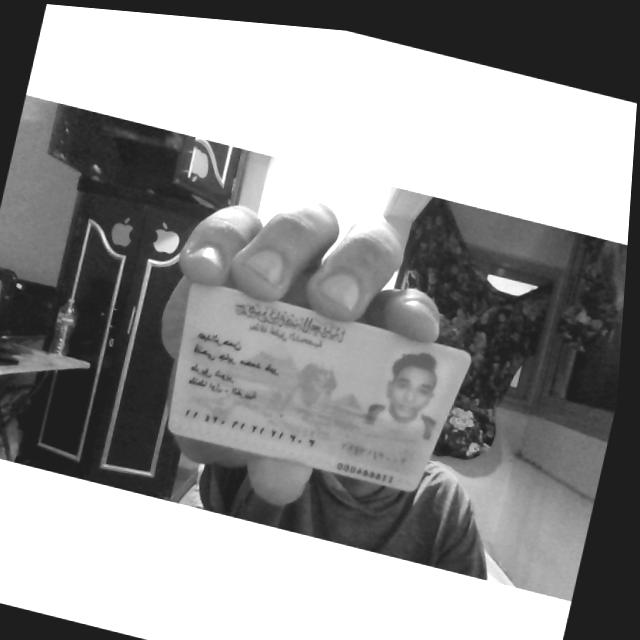id_card: (168, 284, 471, 490)
